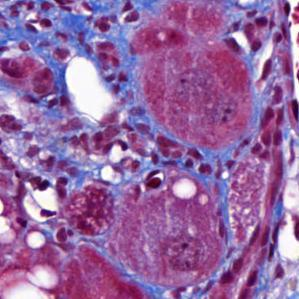inflammation: (140, 167, 165, 195), (222, 32, 251, 56)
